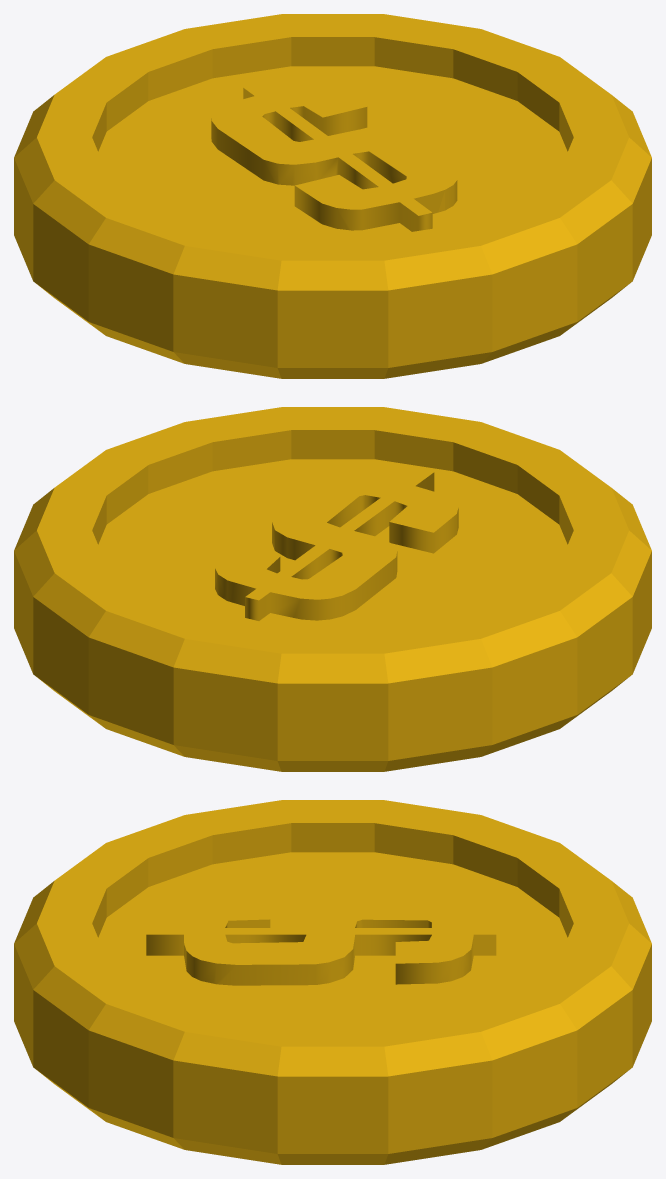
File: new_coin.glb
3 views of the same model, one above another, from view 1: azimuth 30°, elevation 25°; view 2: azimuth 150°, elevation 25°; view 3: azimuth 270°, elevation 25° (orthographic).
Parts seen in each view (by area): view 1: new_coin; view 2: new_coin; view 3: new_coin.
Part boxes in pixels (x1,y1,x2,y2): new_coin: (14, 14, 651, 378); new_coin: (14, 407, 651, 771); new_coin: (14, 800, 651, 1164).
Bounding box in the file's own units: 1.97 × 0.4089 × 2.
